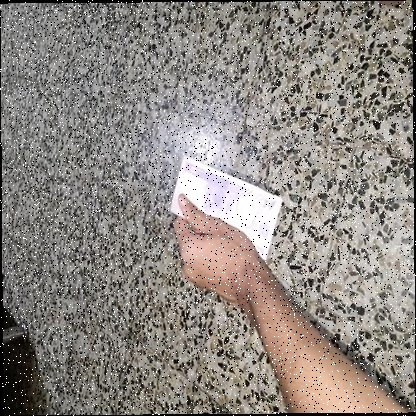ten-back-vef: (169, 155, 282, 260)
